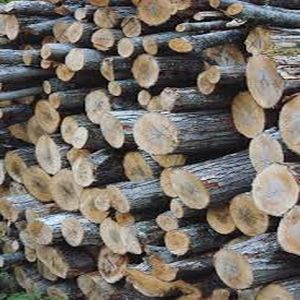log: (249, 161, 300, 221), (245, 54, 288, 111), (132, 112, 182, 160), (169, 164, 216, 212), (211, 244, 258, 291), (228, 190, 272, 237), (229, 91, 269, 142), (247, 132, 287, 179), (34, 243, 76, 285), (93, 243, 133, 287), (49, 168, 85, 214), (200, 197, 240, 237), (22, 163, 57, 207), (32, 135, 65, 176), (77, 186, 112, 224), (98, 110, 130, 151), (120, 150, 158, 184), (82, 88, 115, 127), (99, 216, 128, 259), (243, 25, 279, 59), (130, 53, 163, 90), (3, 150, 33, 188), (132, 1, 180, 24), (34, 100, 66, 134), (70, 155, 99, 189), (119, 225, 150, 256), (25, 218, 57, 248), (164, 227, 194, 258), (158, 165, 186, 197), (61, 215, 87, 249), (106, 182, 132, 216), (25, 113, 50, 148), (89, 26, 116, 53), (166, 36, 197, 58), (153, 209, 180, 234), (58, 115, 79, 147), (139, 33, 162, 61), (5, 14, 24, 47), (119, 13, 144, 38), (155, 261, 179, 287), (63, 47, 87, 73), (94, 6, 119, 30), (63, 22, 87, 46), (114, 36, 137, 59), (196, 71, 217, 96), (52, 62, 78, 82), (159, 88, 181, 111), (70, 125, 90, 150), (135, 88, 155, 112), (100, 57, 117, 84), (165, 196, 184, 220), (74, 6, 93, 26), (107, 81, 123, 102), (37, 43, 56, 60), (206, 64, 222, 84), (39, 78, 55, 97), (228, 1, 246, 17), (48, 92, 63, 110), (173, 20, 190, 35), (192, 9, 211, 21), (38, 58, 54, 71)
